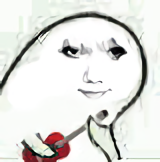dragon: (58, 37, 128, 100)
